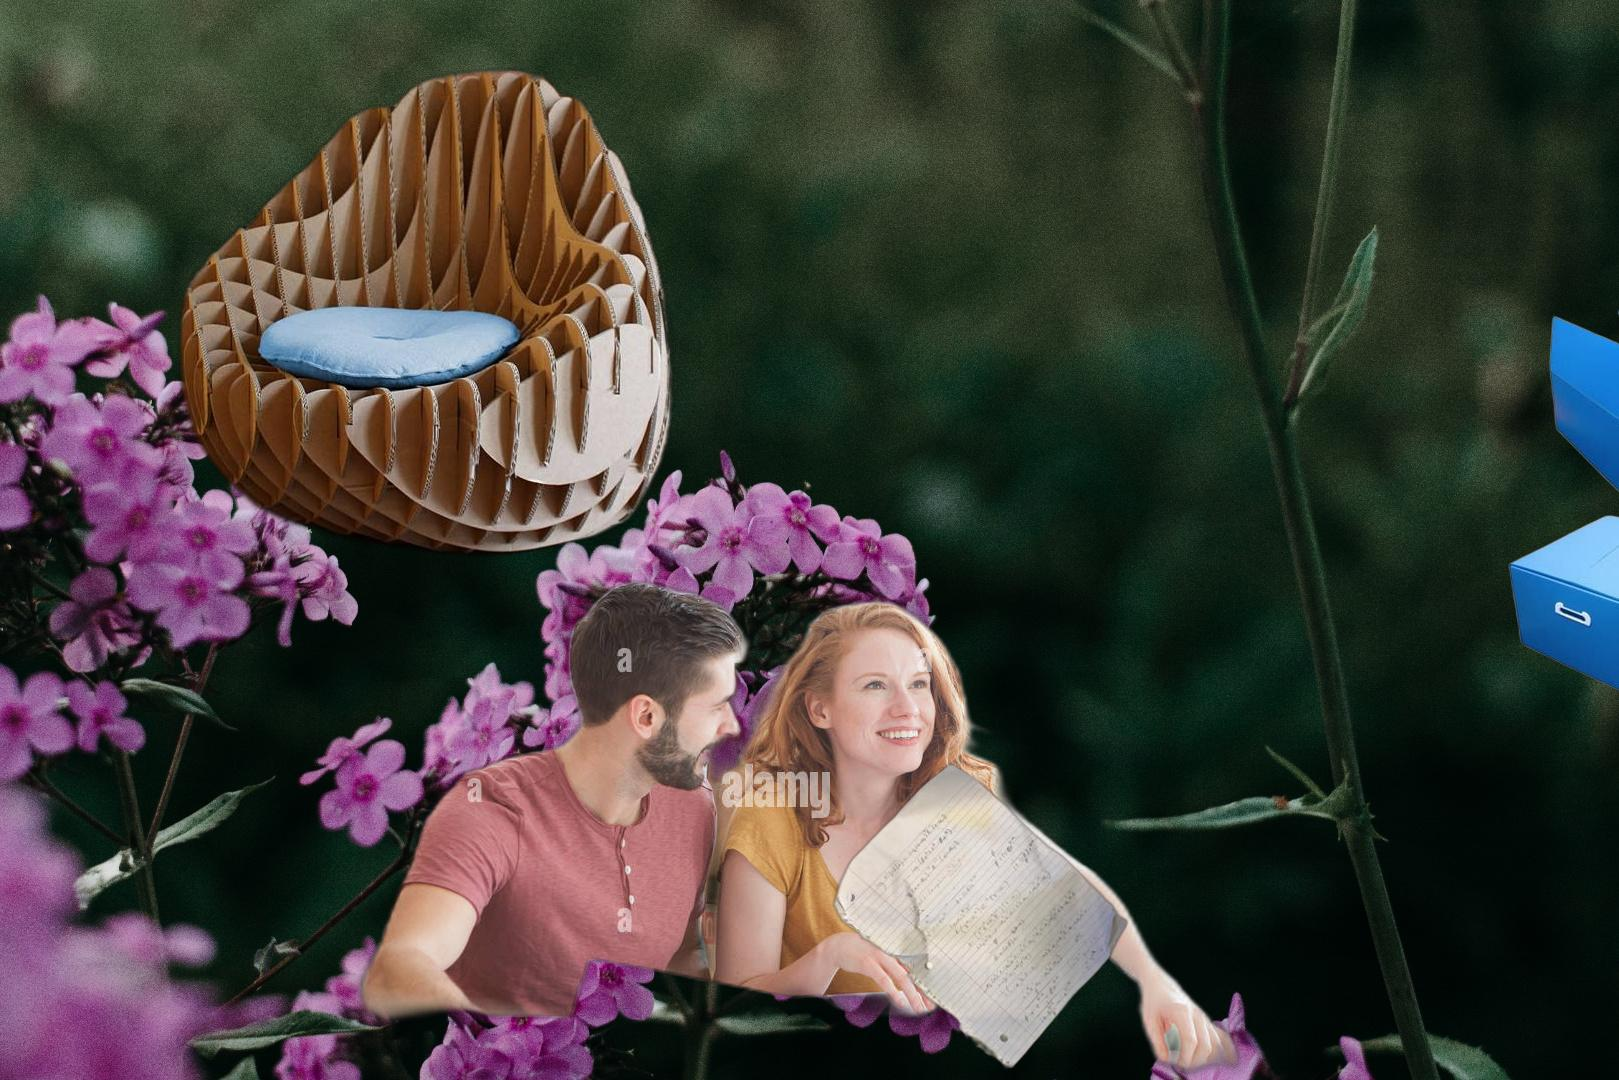paper: (831, 761, 1131, 1073)
trashbox-cardboard: (350, 574, 1248, 1080), (171, 63, 685, 560), (1507, 305, 1619, 703)
